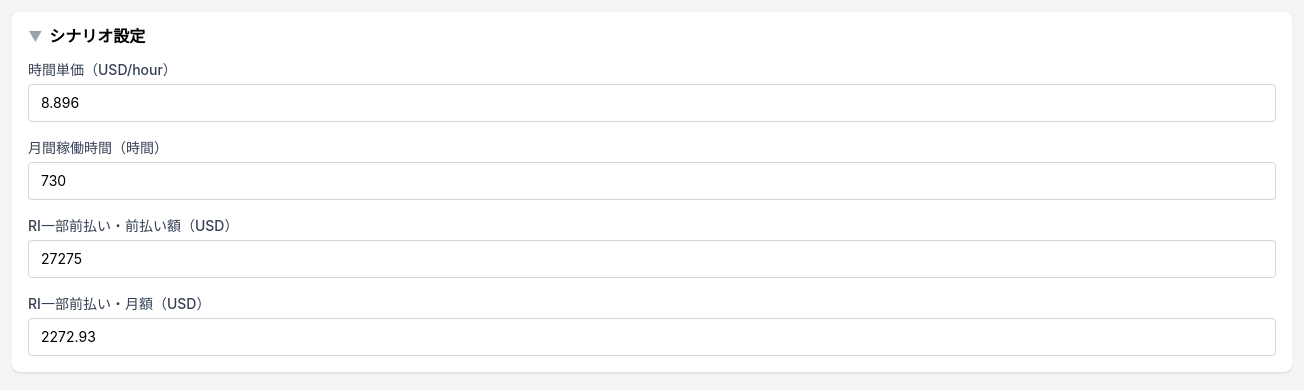
Scenario: ScenarioSettings › トグルボタンをクリックすると入力フィールドが非表示になる
Step 1. Click the button "▶ シナリオ設定" → (97, 36), box [12,12,1292,60]
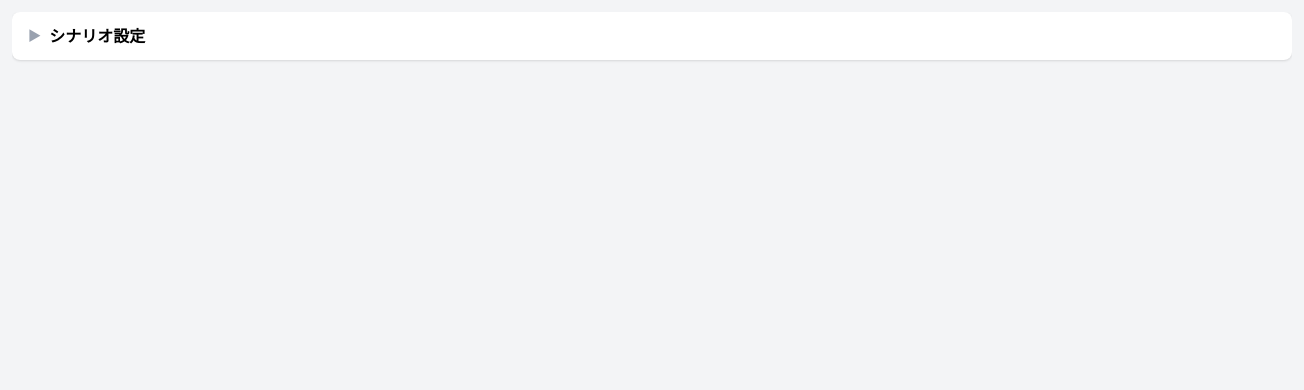
Result: no number fields are shown
